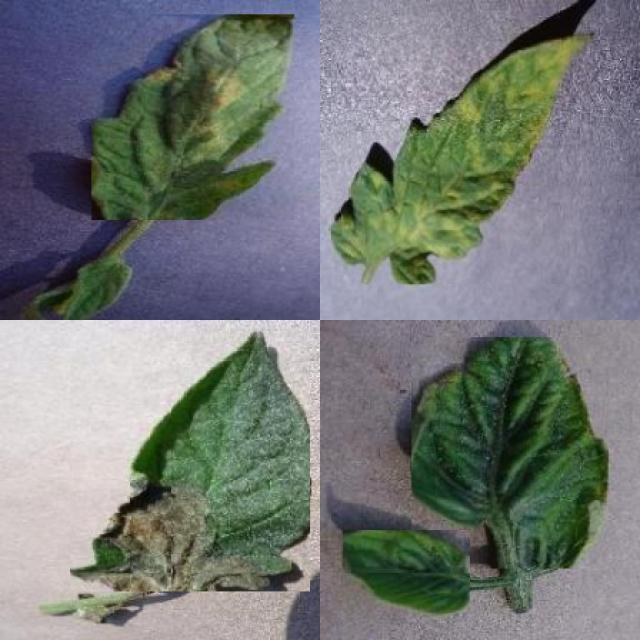Late Blight: (70, 328, 310, 592)
Leaf Mold: (331, 32, 596, 284), (92, 14, 295, 220)
Yellow Leaf Curl Virus: (412, 337, 609, 569), (343, 530, 470, 614)
